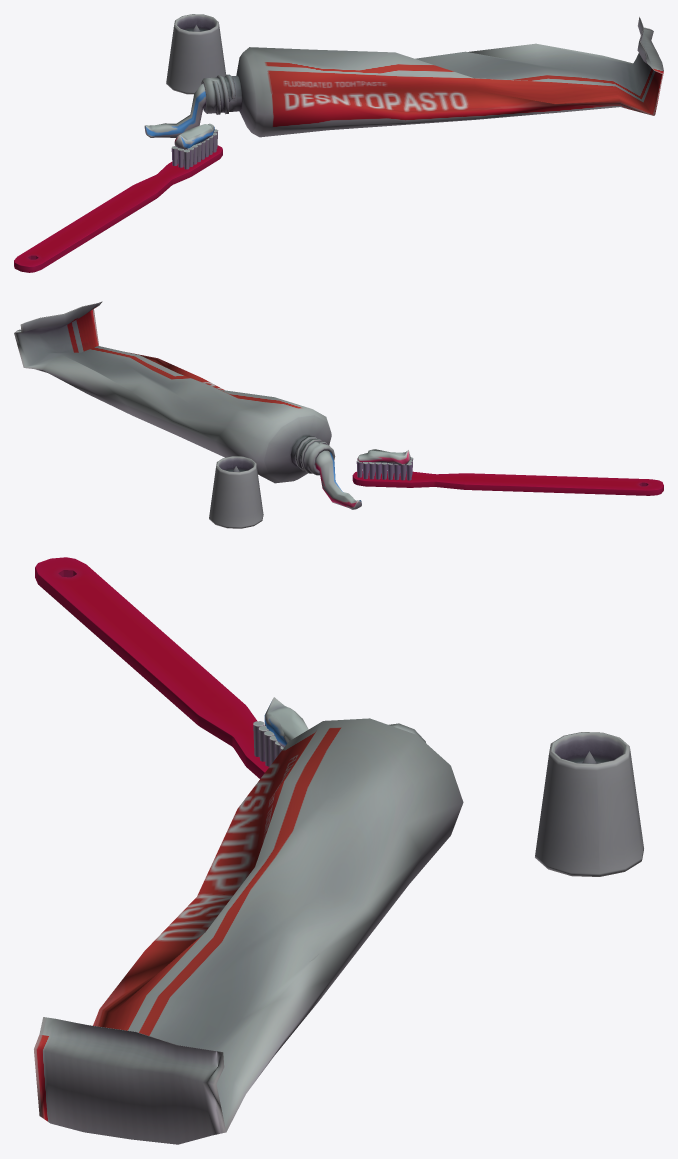
File: pasta.fbx
The picture shows the model from 3 angles, top to bottom: view 1: azimuth 30°, elevation 25°; view 2: azimuth 150°, elevation 25°; view 3: azimuth 270°, elevation 25°; orthographic projection. The views are drawn at different scales.
Visible parts, largest first — view 1: Pasta_de_dientes_tubo_M_tubo_pasat_de_dientes_aiStandardSurf, Cepillo_base, Pasta_de_deintes_tapa_M_tubo_pasat_de_dientes_aiStandardSurf, Pasta_de_dientes_M_cepillo_pasta_aiStandardSurface2_0, Cepillo_cerdas, Pasta_de_dientes2; view 2: Pasta_de_dientes_tubo_M_tubo_pasat_de_dientes_aiStandardSurf, Cepillo_base, Pasta_de_deintes_tapa_M_tubo_pasat_de_dientes_aiStandardSurf, Pasta_de_dientes_M_cepillo_pasta_aiStandardSurface2_0, Cepillo_cerdas, Pasta_de_dientes2; view 3: Pasta_de_dientes_tubo_M_tubo_pasat_de_dientes_aiStandardSurf, Pasta_de_deintes_tapa_M_tubo_pasat_de_dientes_aiStandardSurf, Cepillo_base, Pasta_de_dientes2, Cepillo_cerdas.
Part boxes in pixels (x1,y1,x2,y2): Pasta_de_dientes_tubo_M_tubo_pasat_de_dientes_aiStandardSurf: [201, 17, 663, 137]; Cepillo_base: [14, 145, 222, 272]; Pasta_de_deintes_tapa_M_tubo_pasat_de_dientes_aiStandardSurf: [166, 14, 226, 94]; Pasta_de_dientes_M_cepillo_pasta_aiStandardSurface2_0: [144, 84, 206, 137]; Cepillo_cerdas: [171, 129, 218, 169]; Pasta_de_dientes2: [174, 123, 214, 149]; Pasta_de_dientes_tubo_M_tubo_pasat_de_dientes_aiStandardSurf: [14, 301, 335, 483]; Cepillo_base: [352, 471, 663, 495]; Pasta_de_deintes_tapa_M_tubo_pasat_de_dientes_aiStandardSurf: [209, 456, 263, 528]; Pasta_de_dientes_M_cepillo_pasta_aiStandardSurface2_0: [315, 450, 361, 509]; Cepillo_cerdas: [356, 457, 413, 480]; Pasta_de_dientes2: [357, 449, 410, 465]; Pasta_de_dientes_tubo_M_tubo_pasat_de_dientes_aiStandardSurf: [34, 718, 463, 1144]; Pasta_de_deintes_tapa_M_tubo_pasat_de_dientes_aiStandardSurf: [535, 732, 643, 876]; Cepillo_base: [35, 557, 269, 778]; Pasta_de_dientes2: [264, 697, 308, 747]; Cepillo_cerdas: [253, 721, 283, 766].
Size of the model in its own units: 5.25 by 0.5846 by 2.27.
Materials: 2 (2 with a texture image).
